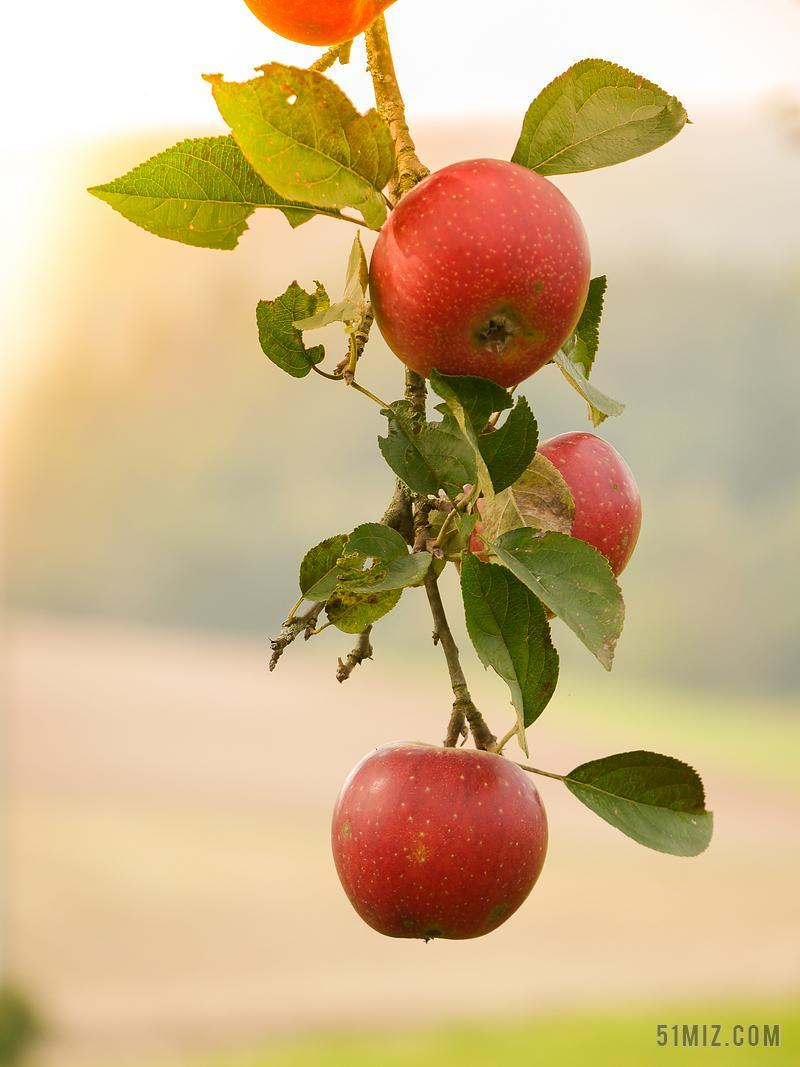apple: (362, 170, 592, 402), (329, 739, 551, 942), (443, 431, 642, 614)
